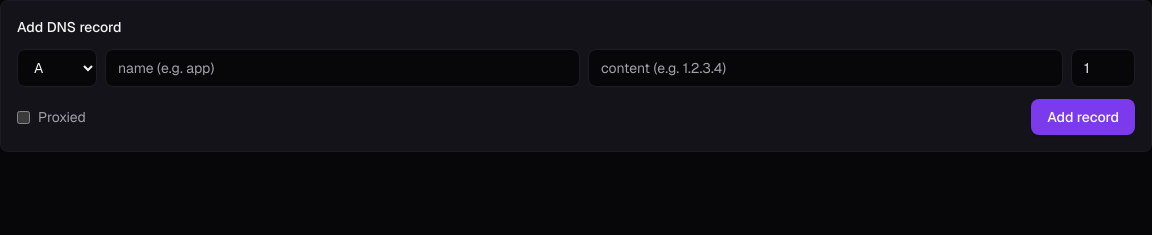
Test: RecordForm (create) › surfaces the backend error and does not clear inputs
Type "app" into the field named "Record name" at (342,68), box [105, 49, 580, 87]
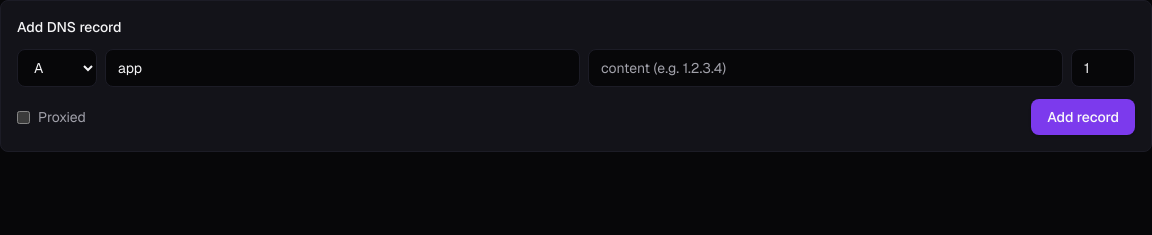
Type "bad" into the field named "Record content" at (826,68), box [588, 49, 1063, 87]
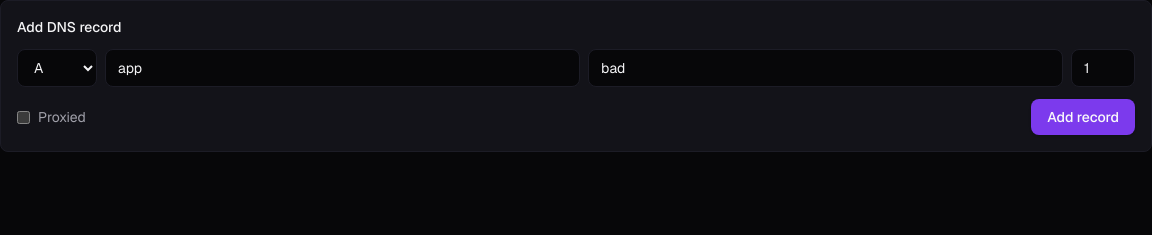
Click the button "Add record" at (1083,117), box [1031, 99, 1135, 135]
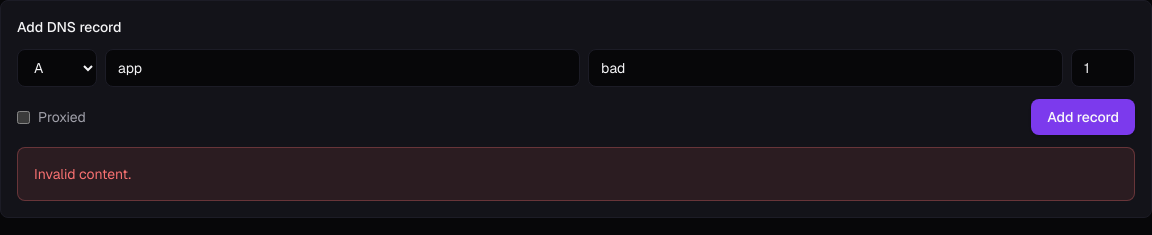
Result: the message reads "Invalid content." at [34, 165, 131, 183]
